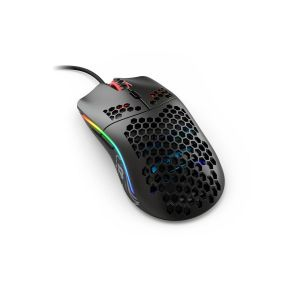mouse: (69, 58, 228, 225)
